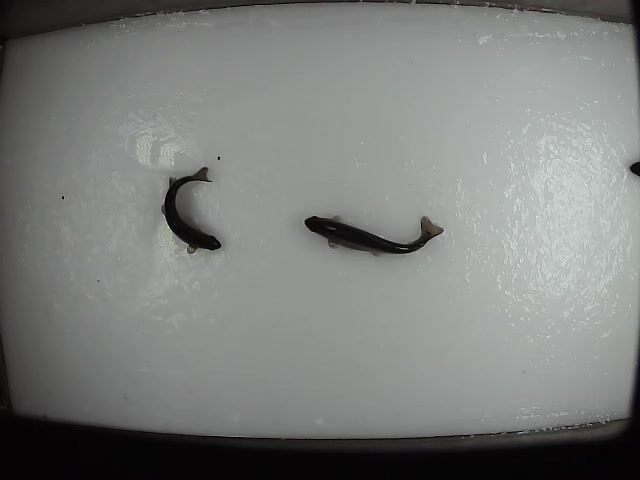fish: (302, 210, 446, 260), (159, 165, 223, 254)
